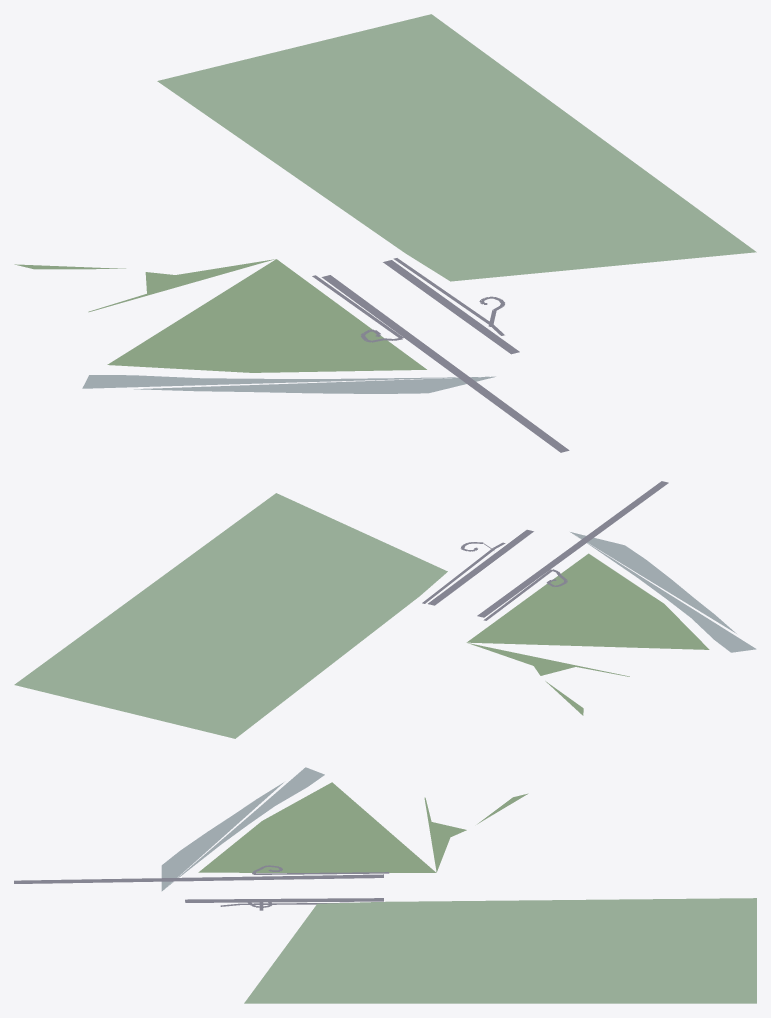
The model's file is 121_119_mid.glb.
3 renders of one model, top to bottom at view 1: azimuth 30°, elevation 25°; view 2: azimuth 150°, elevation 25°; view 3: azimuth 270°, elevation 25°, orthographic. The views are drawn at different scales.
Bounding box in the file's own units: 486 × 10.02 × 624.
